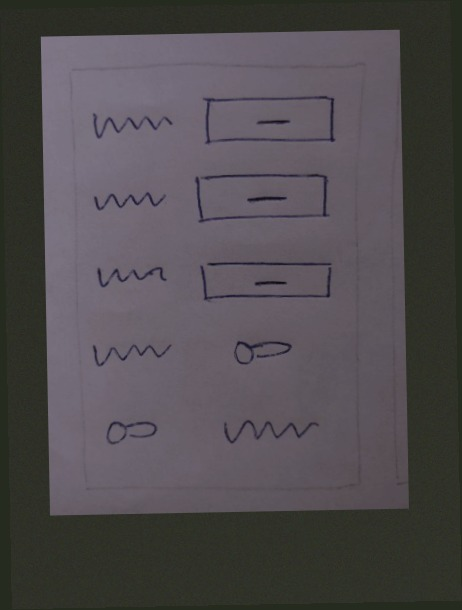button: (198, 87, 339, 154), (195, 245, 336, 312), (191, 161, 332, 227)
switch: (220, 328, 297, 374), (94, 405, 170, 451)
text: (216, 405, 321, 452), (218, 406, 322, 453), (84, 173, 178, 222), (87, 248, 181, 297), (87, 333, 181, 382), (84, 105, 177, 154)
